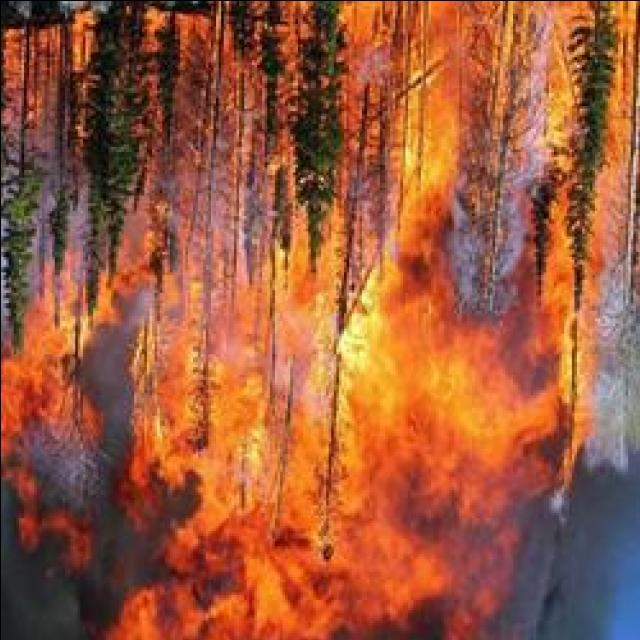fire: (414, 394, 518, 484), (201, 369, 274, 488), (398, 88, 454, 210), (372, 330, 450, 417), (260, 527, 342, 609), (333, 304, 387, 406)
smoke: (504, 509, 634, 640), (1, 522, 107, 640), (428, 570, 548, 638)
